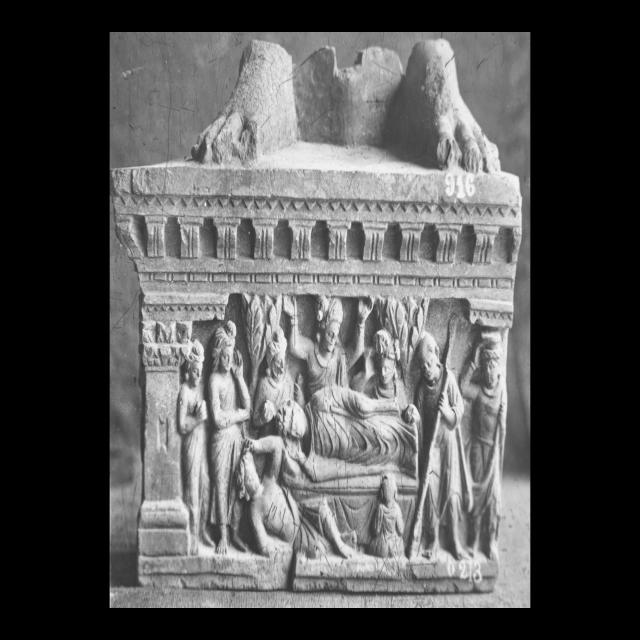buddha-sleeping: (260, 384, 420, 560)
